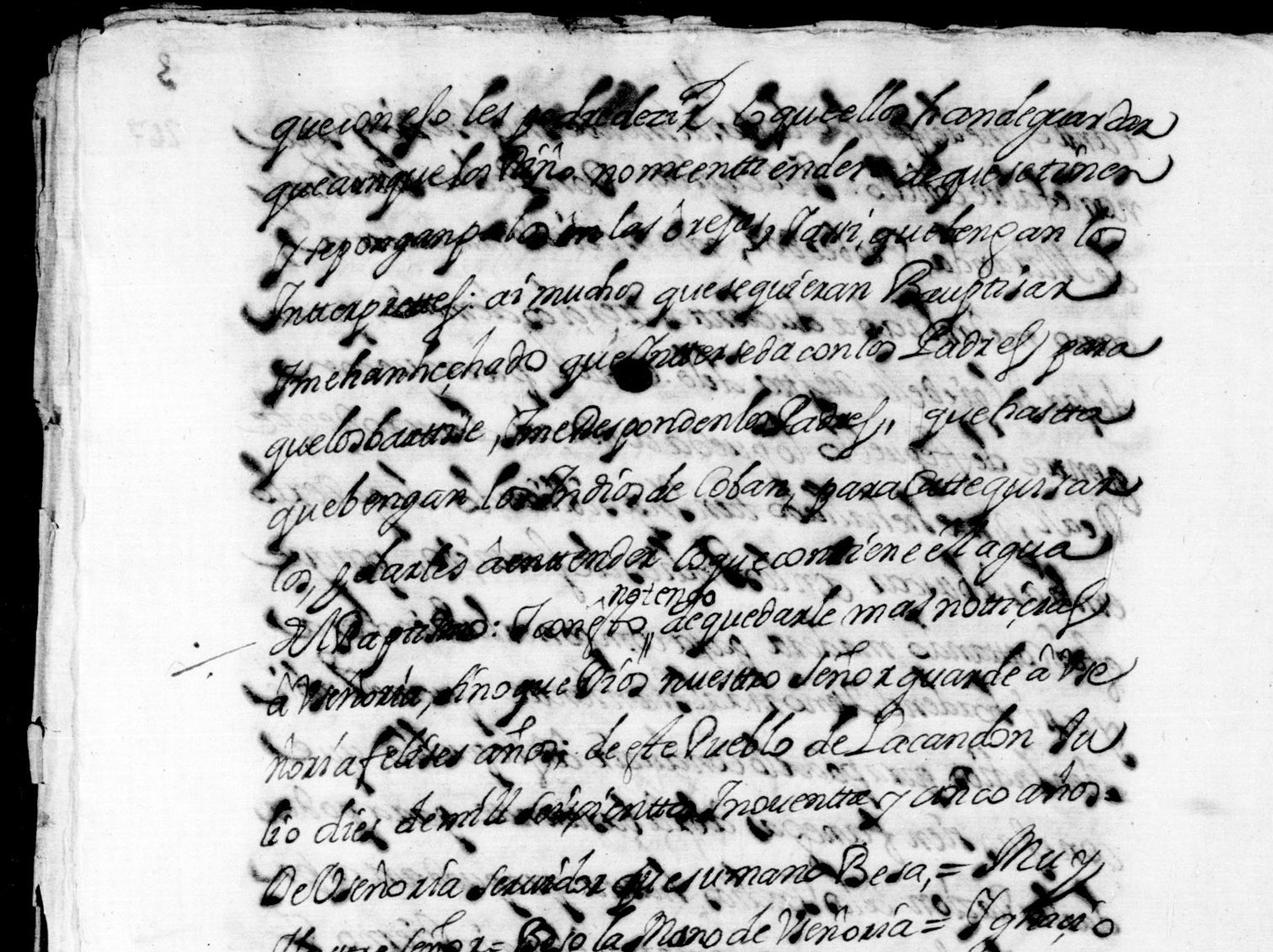lacandon: (843, 703, 1034, 757)
